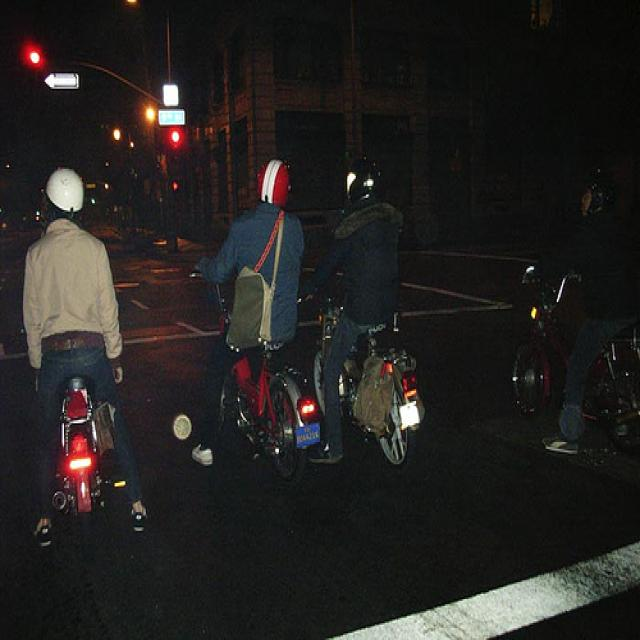Motorbike: (486, 253, 640, 473), (184, 247, 328, 481), (301, 283, 425, 472), (31, 344, 129, 540)
People: (18, 153, 187, 552), (204, 138, 329, 488), (317, 141, 424, 468), (544, 161, 636, 480)
